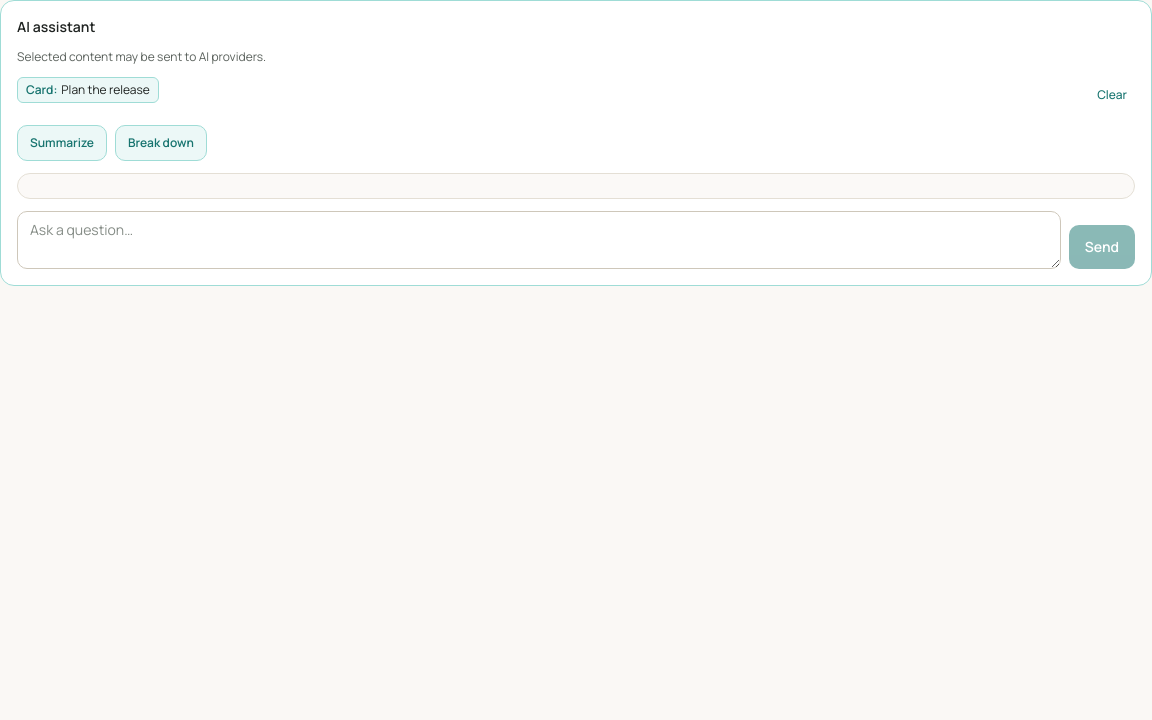
Test: AiPanel › TC-AI-06: shows the safe AI_DISABLED response
Type "What is the plan?" into the text box labelled "Ask a question" at (539, 240), box [17, 211, 1061, 269]
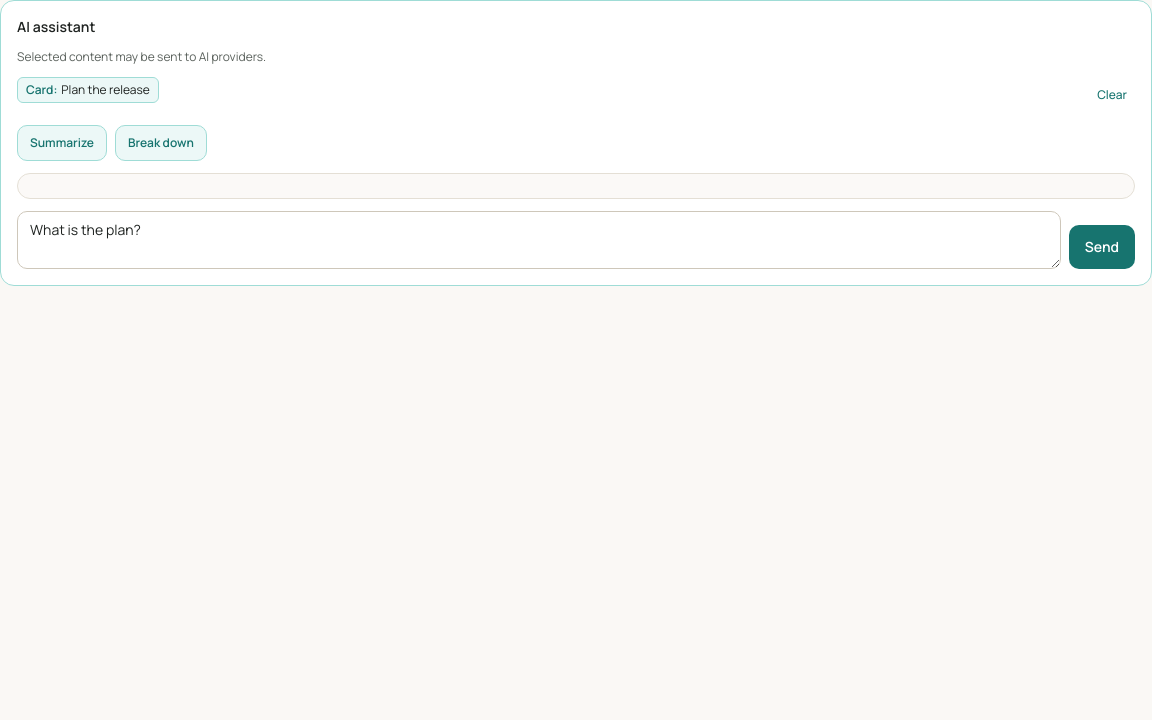
Click the button with aria-label "Ask AI" at (1102, 247), box [1069, 225, 1135, 269]
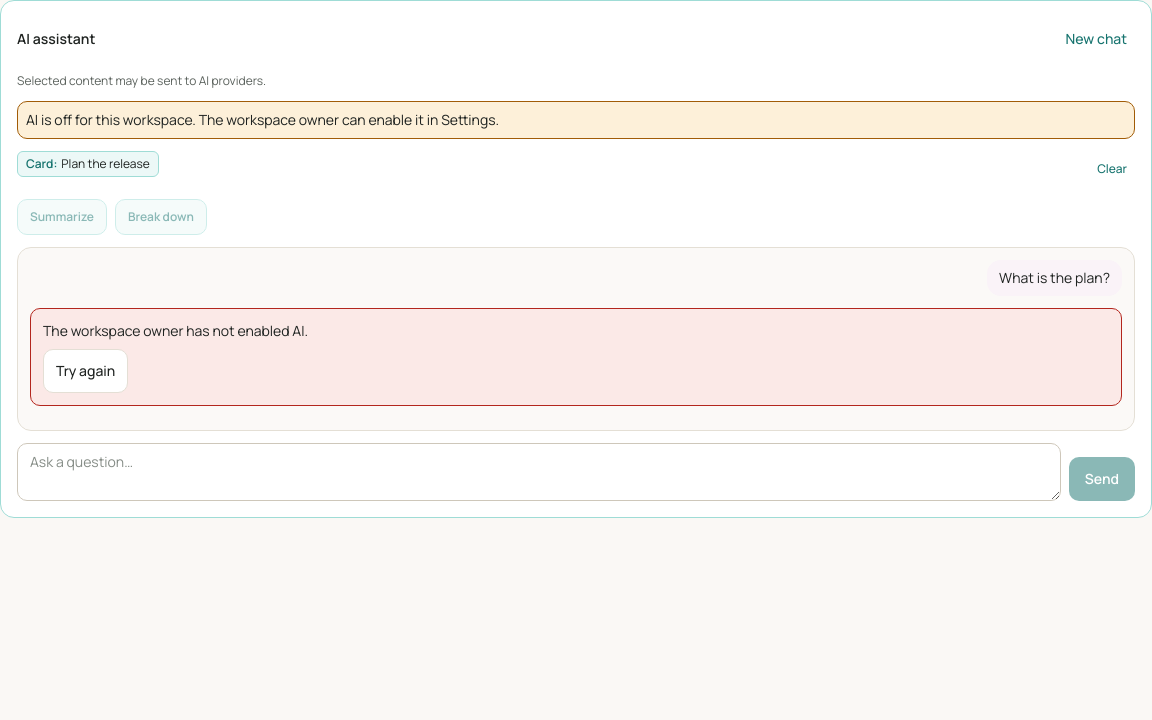
Now the text "The workspace owner has not enabled AI." is shown, box [43, 321, 308, 340]
Now the text "AI is off for this workspace. The workspace owner can enable it in Settings." is shown, box [17, 101, 1135, 139]
Now the button with aria-label "Ask AI" is disabled, box [1069, 457, 1135, 501]
